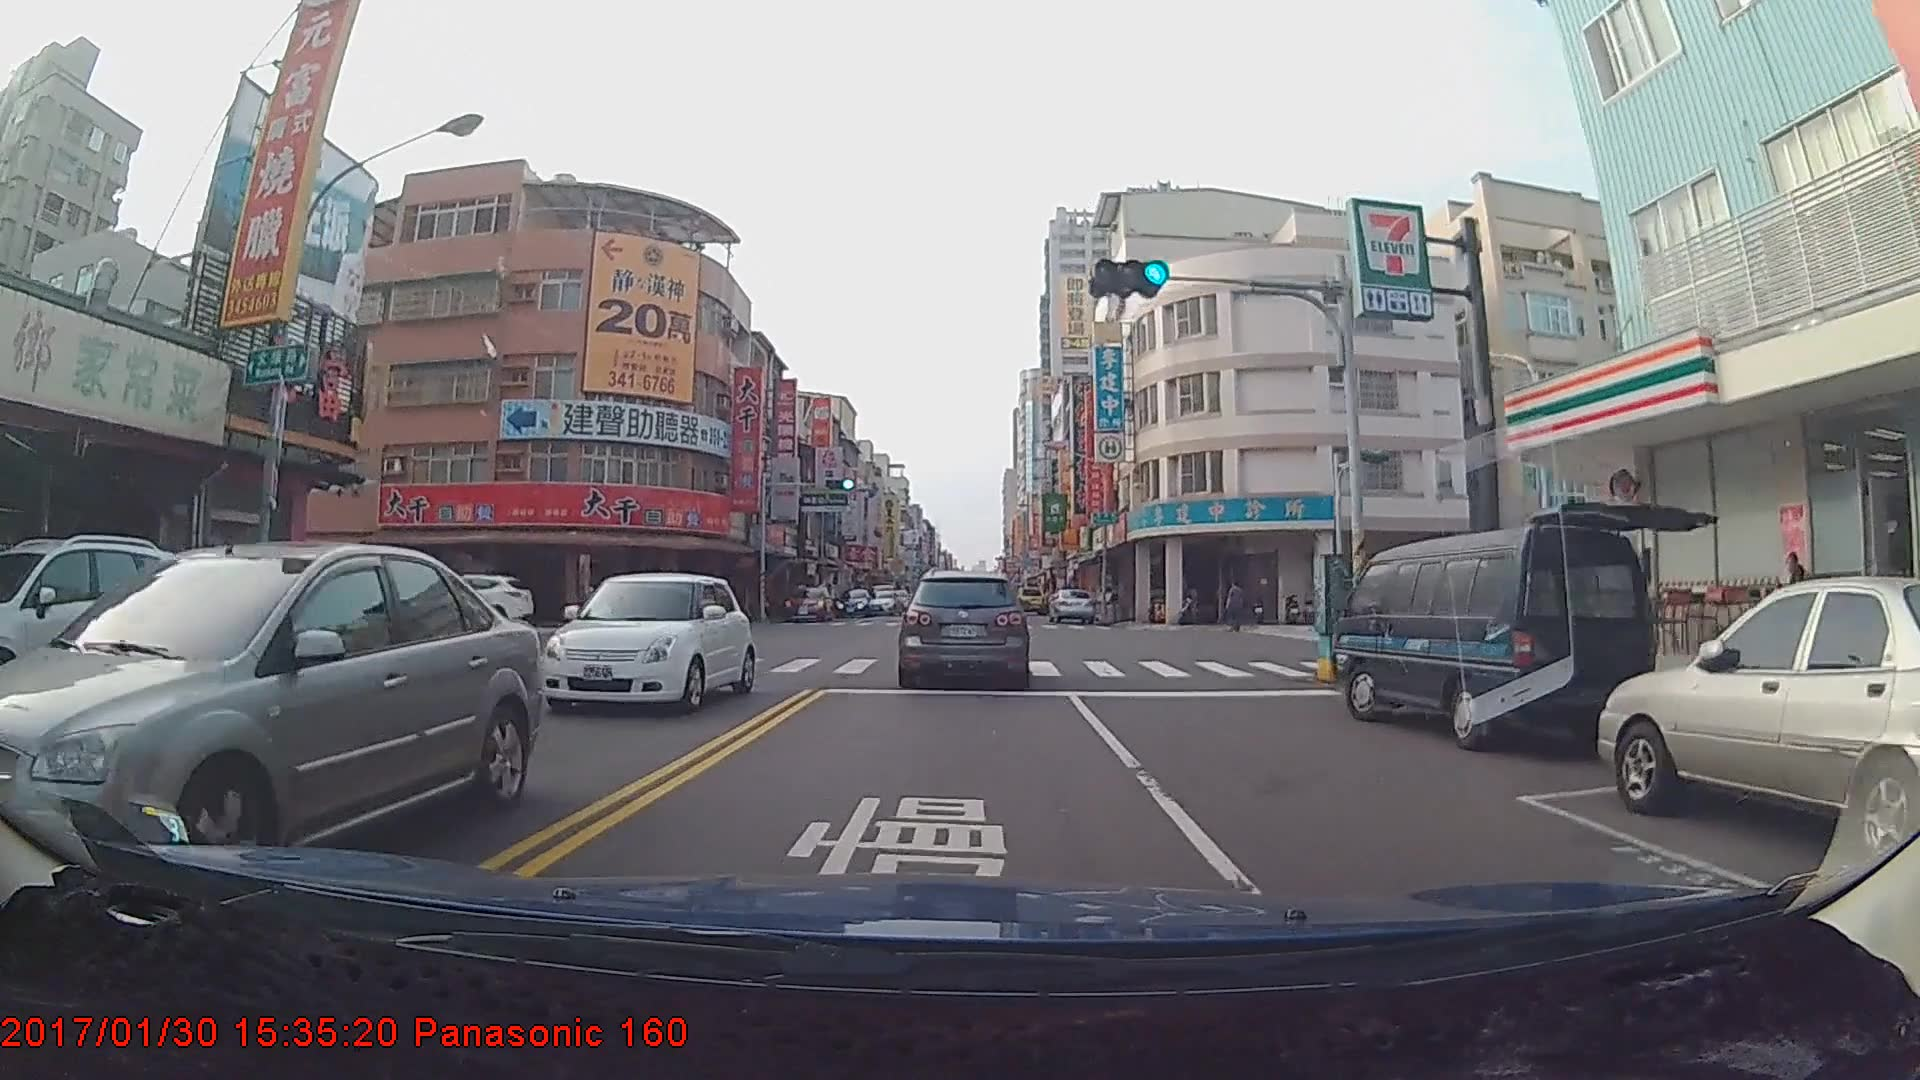pedestrian: (1227, 584, 1248, 638)
vehicle: (0, 538, 543, 888), (1594, 579, 1918, 878), (1324, 516, 1670, 757), (0, 535, 183, 727), (542, 569, 756, 719), (900, 570, 1027, 679), (408, 572, 534, 627), (1048, 586, 1096, 625), (782, 586, 831, 623), (834, 589, 872, 617), (866, 588, 902, 615), (1013, 584, 1046, 612)
